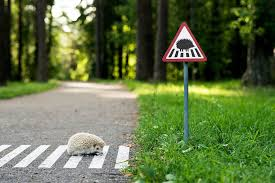yield_sign: (162, 21, 207, 62)
